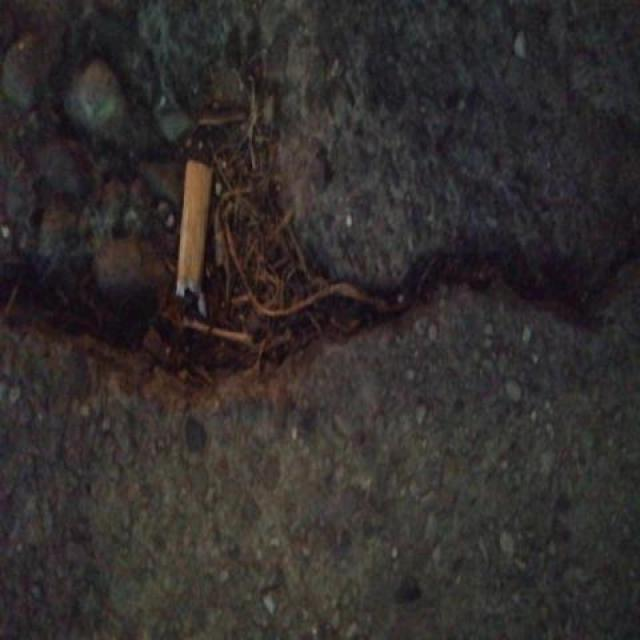non-organic waste: (171, 154, 217, 317)
